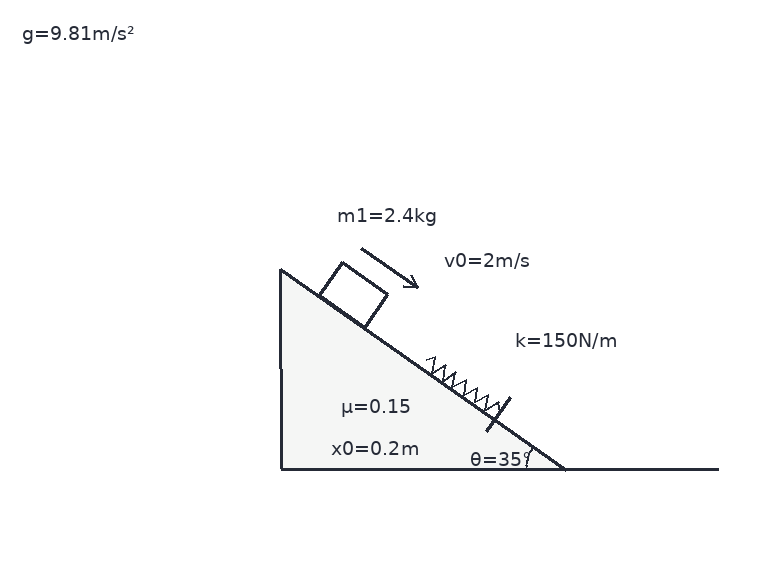block: (316, 260, 389, 330)
ramp: (278, 267, 568, 471)
spring: (423, 356, 502, 414)
